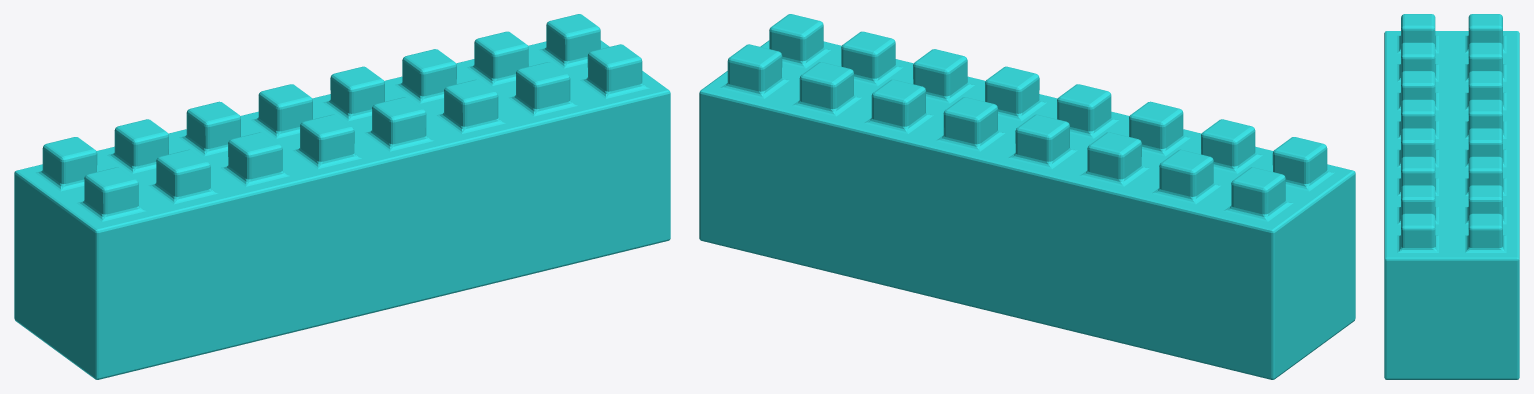
File: Building block4.fbx
The picture shows the model from 3 angles, left to right: view 1: azimuth 30°, elevation 25°; view 2: azimuth 150°, elevation 25°; view 3: azimuth 270°, elevation 25°; orthographic projection. The views are drawn at different scales.
Visible parts, largest first — view 1: Cube.007; view 2: Cube.007; view 3: Cube.007.
Part boxes in pixels (box(x1,y1,x2,y2)): Cube.007: box(14, 14, 670, 379); Cube.007: box(699, 14, 1355, 379); Cube.007: box(1384, 14, 1519, 379).
Size of the model in its own units: 160 by 47.96 by 40.
